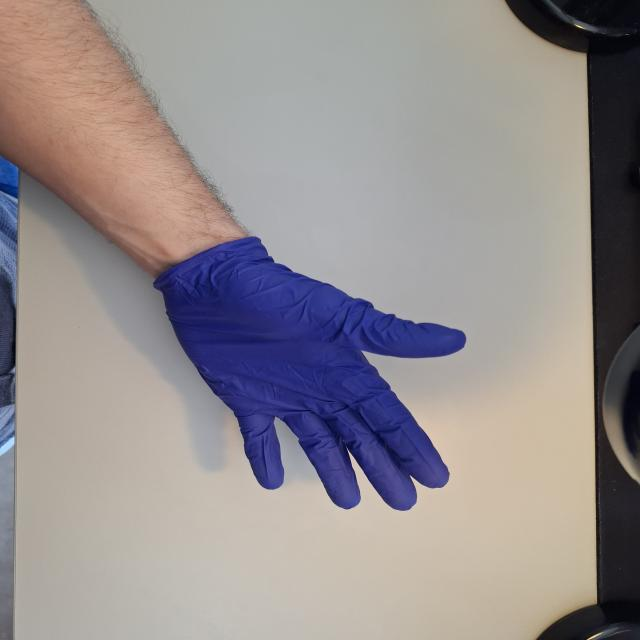glove_on: (154, 235, 470, 513)
